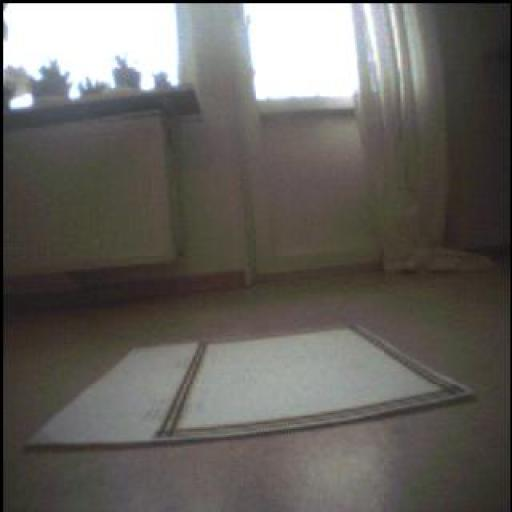Pad: (30, 329, 473, 447)
